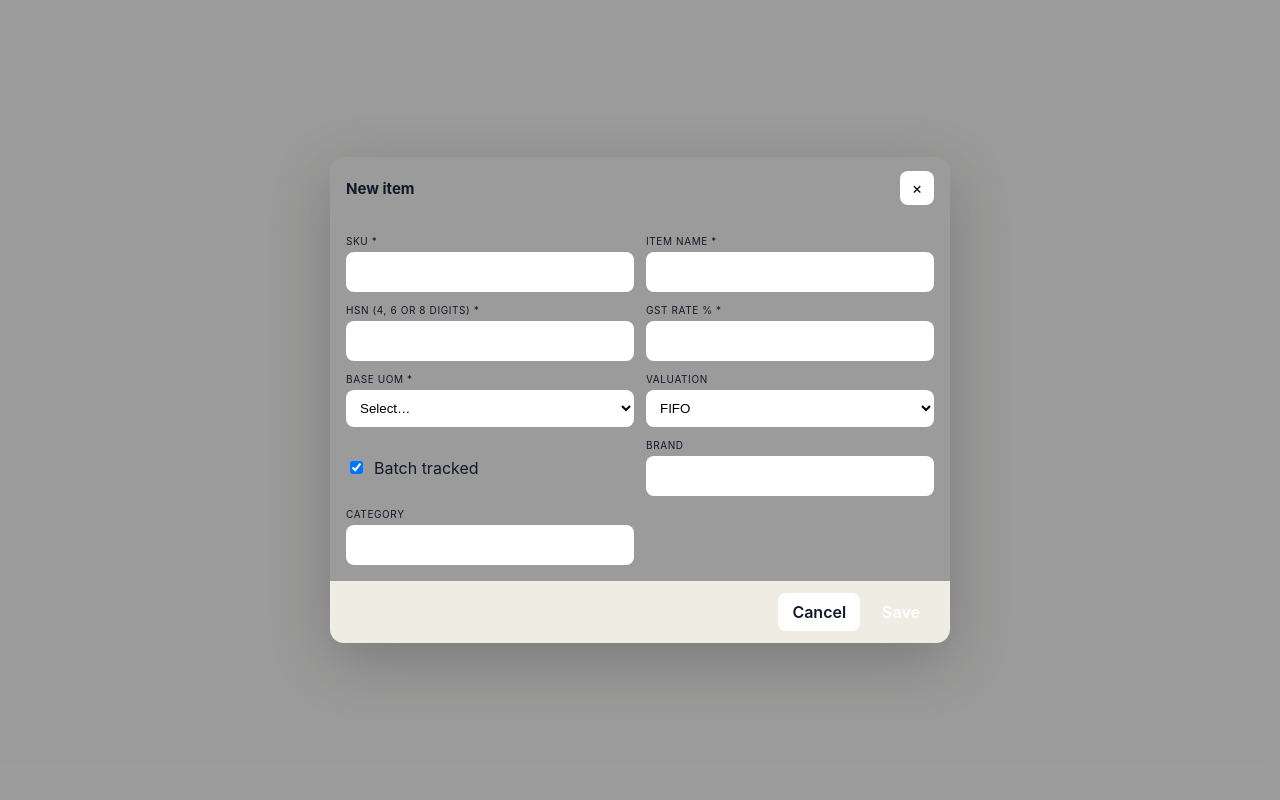
MasterFormModal › shows the server error and highlights the field
The image size is (1280, 800).
Type "A" into the field labelled "SKU" at (490, 272), box [346,252,634,292]
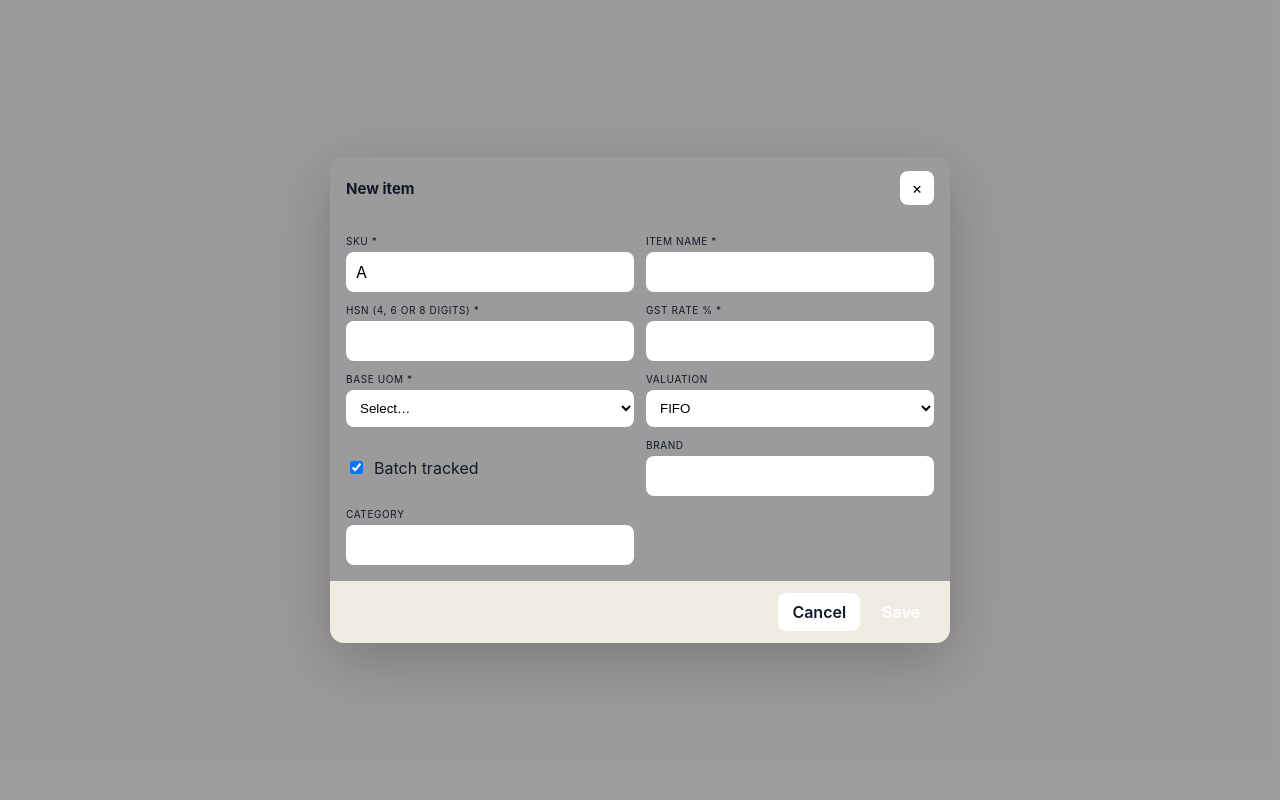
Type "B" into the field labelled "ITEM NAME" at (790, 272), box [646,252,934,292]
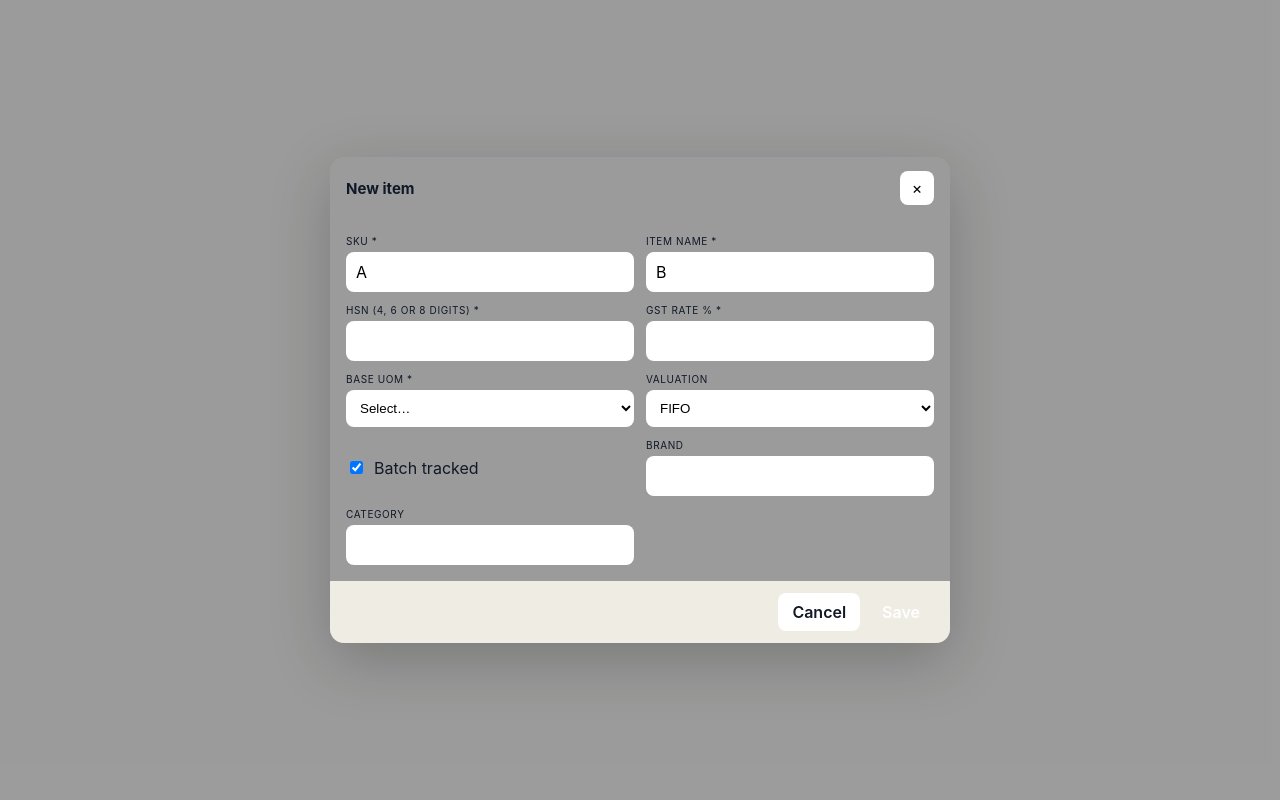
Type "12" into the field labelled "HSN (4, 6 OR 8 DIGITS)" at (490, 341), box [346,321,634,361]
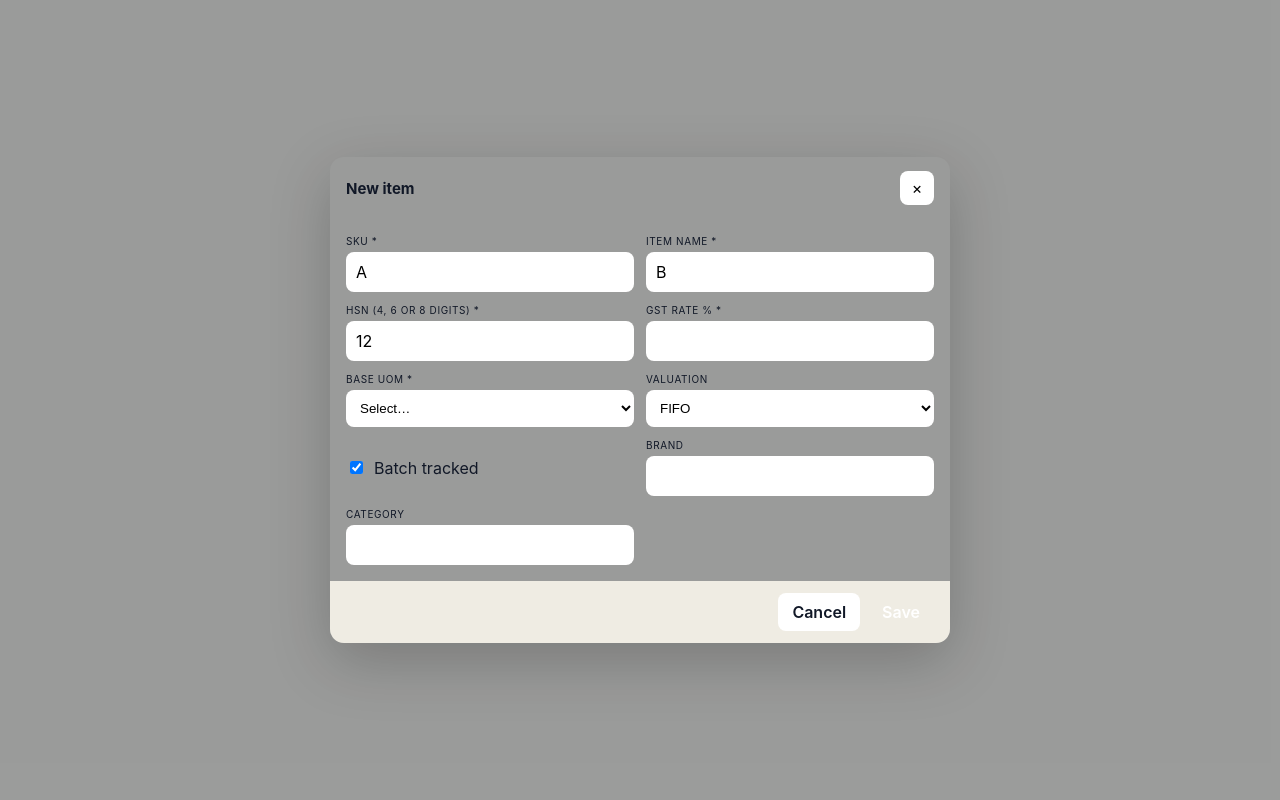
Type "18" into the number field labelled "GST RATE %" at (790, 341), box [646,321,934,361]
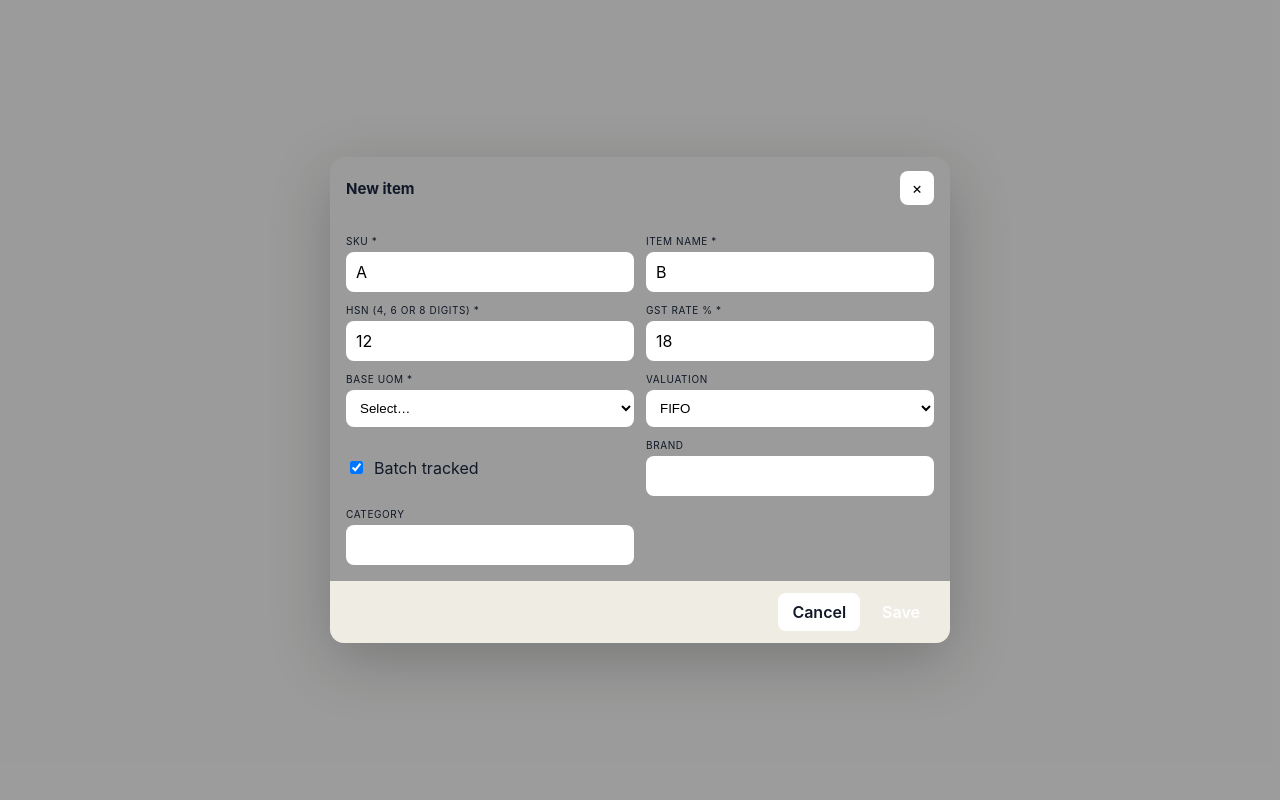
Select "NOS" in the dropdown labelled "BASE UOM" at (490, 408), box [346,390,634,427]
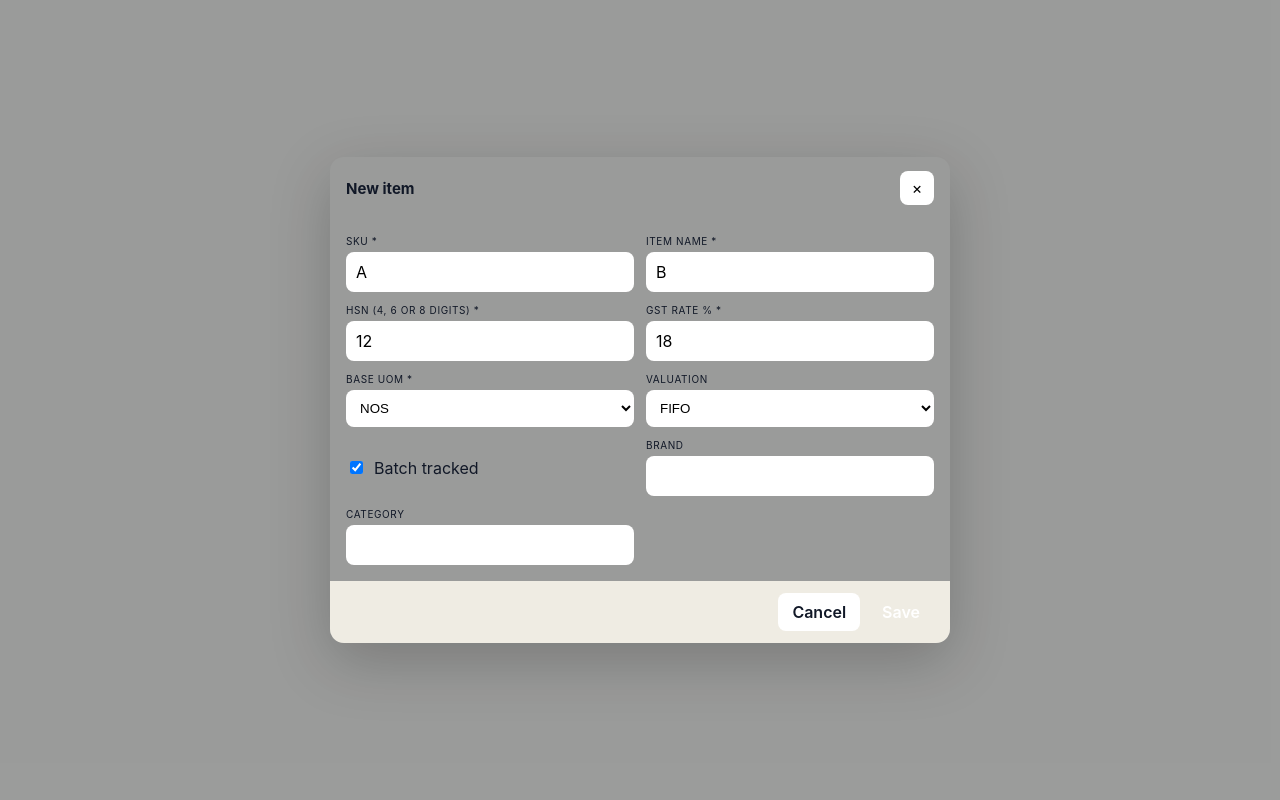
Click the button "Save" at (901, 612), box [868,593,934,631]
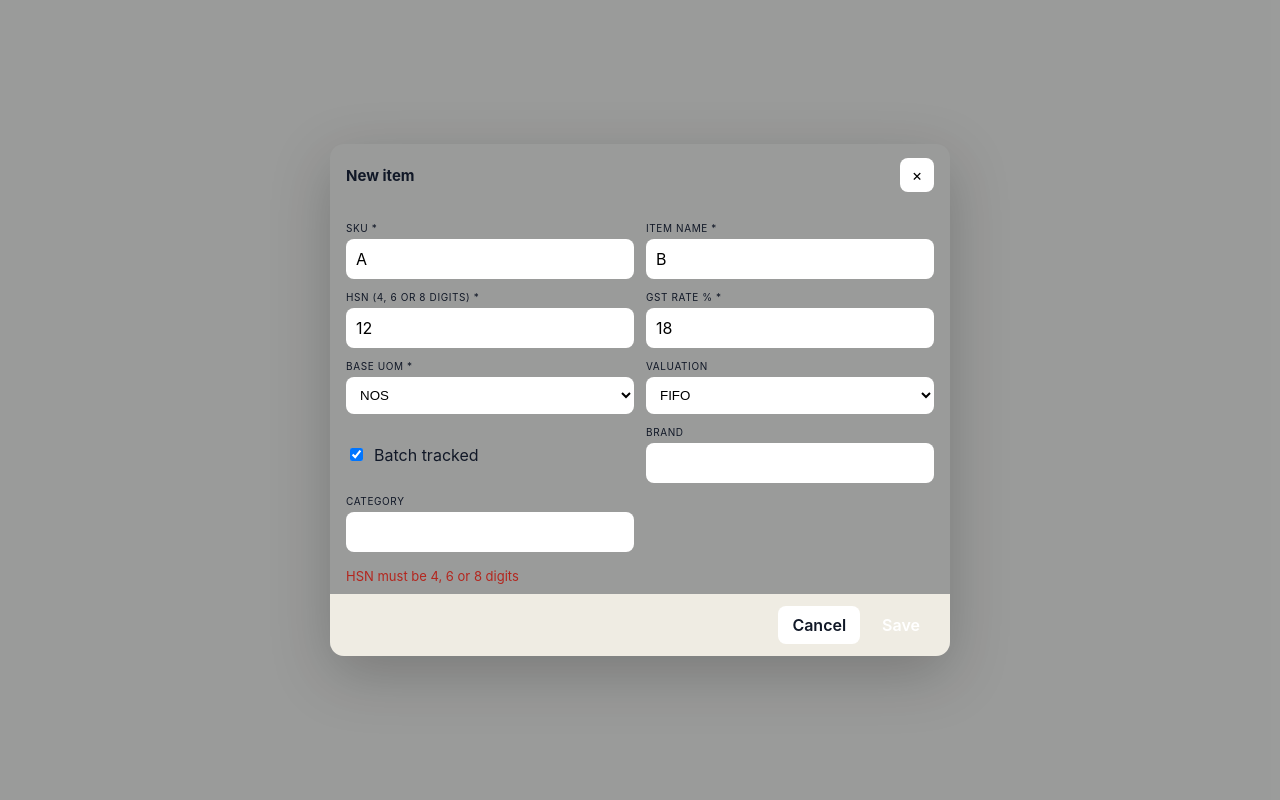
Check: the message reads "HSN must be 4, 6 or 8 digits", box [346,568,519,584]
